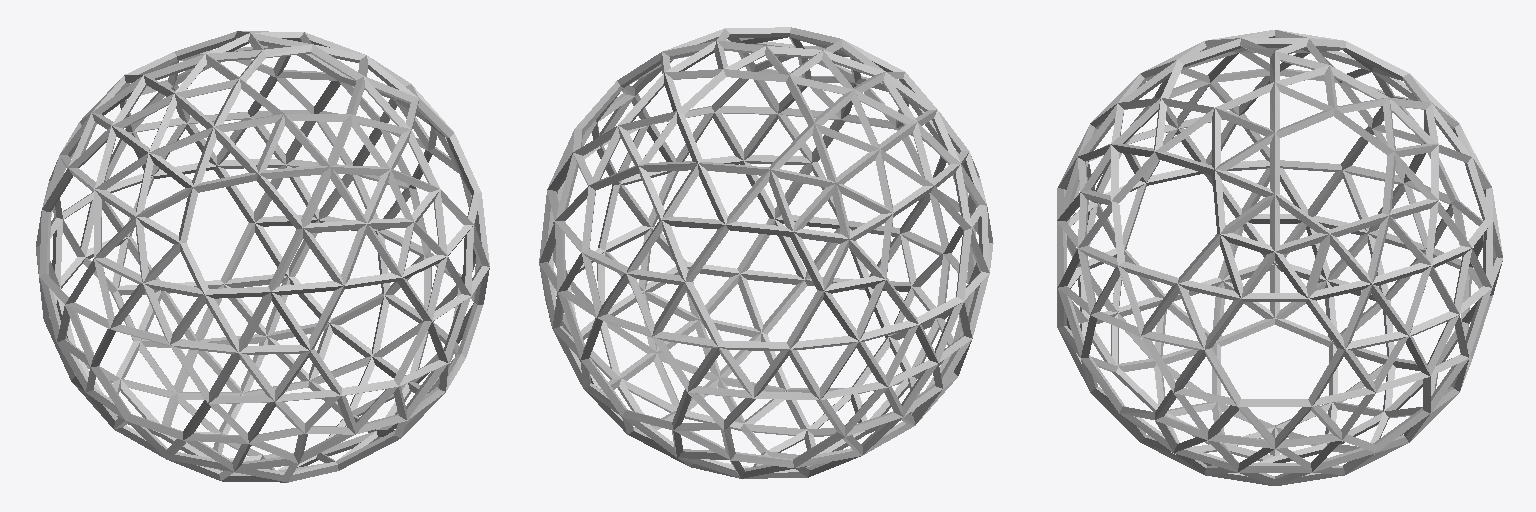
File: Octoball.obj
The picture shows the model from 3 angles: view 1: azimuth 30°, elevation 25°; view 2: azimuth 150°, elevation 25°; view 3: azimuth 270°, elevation 25°; orthographic projection.
Visible parts, largest first — view 1: Icosphere_Icosphere.001; view 2: Icosphere_Icosphere.001; view 3: Icosphere_Icosphere.001.
Part boxes in pixels (bbox=[...]): Icosphere_Icosphere.001: bbox=[36, 31, 489, 482]; Icosphere_Icosphere.001: bbox=[539, 27, 993, 478]; Icosphere_Icosphere.001: bbox=[1057, 30, 1502, 485].
Bounding box in the file's own units: 2 × 2.04 × 2.